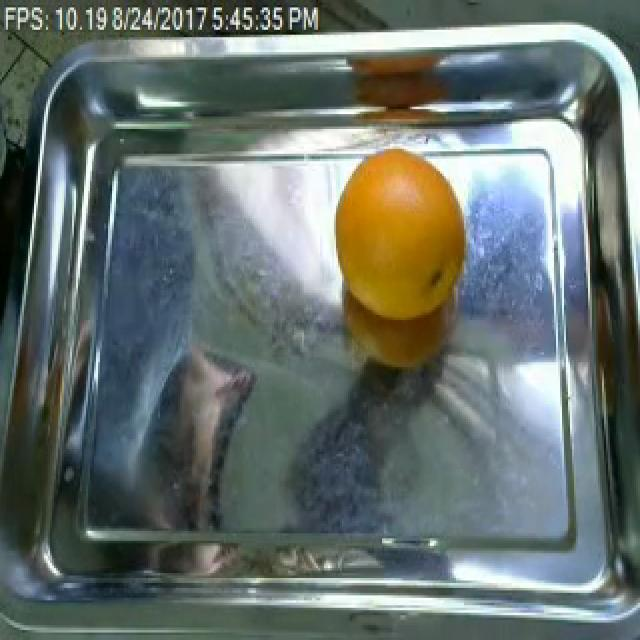Fruit: (326, 144, 476, 377)
